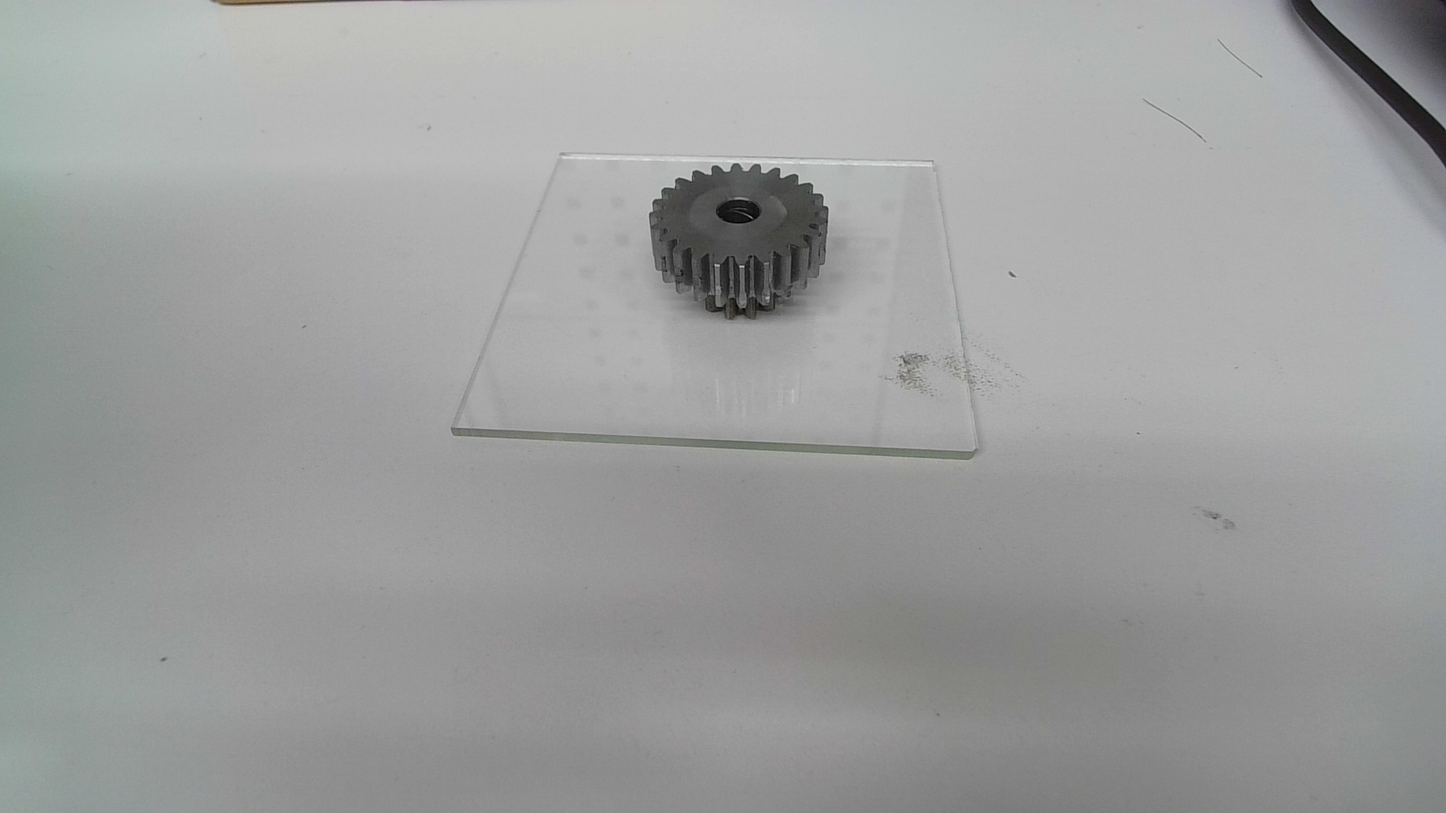gear: (646, 156, 833, 323)
